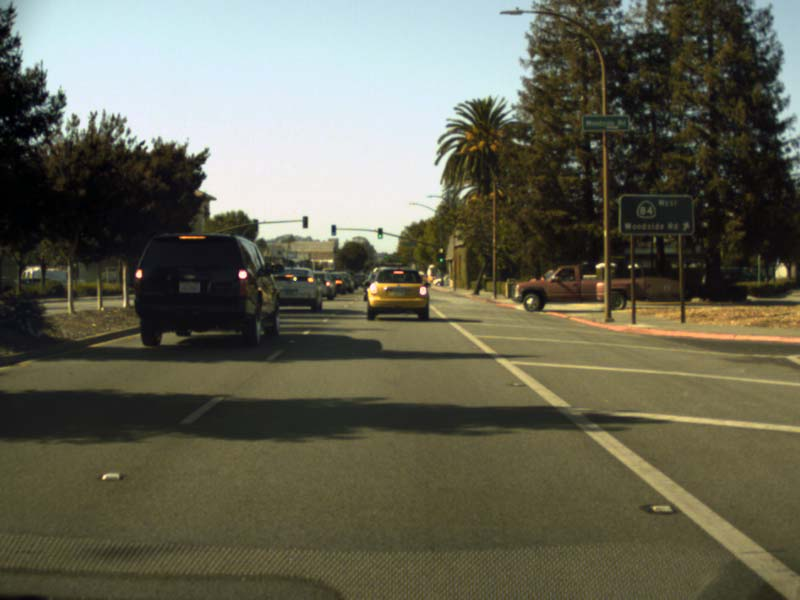Green: (376, 227, 382, 238), (437, 257, 445, 265)
Yellow: (437, 247, 444, 254)
